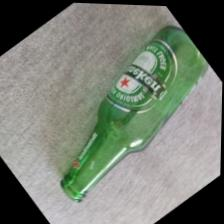glass: (42, 4, 220, 223)
